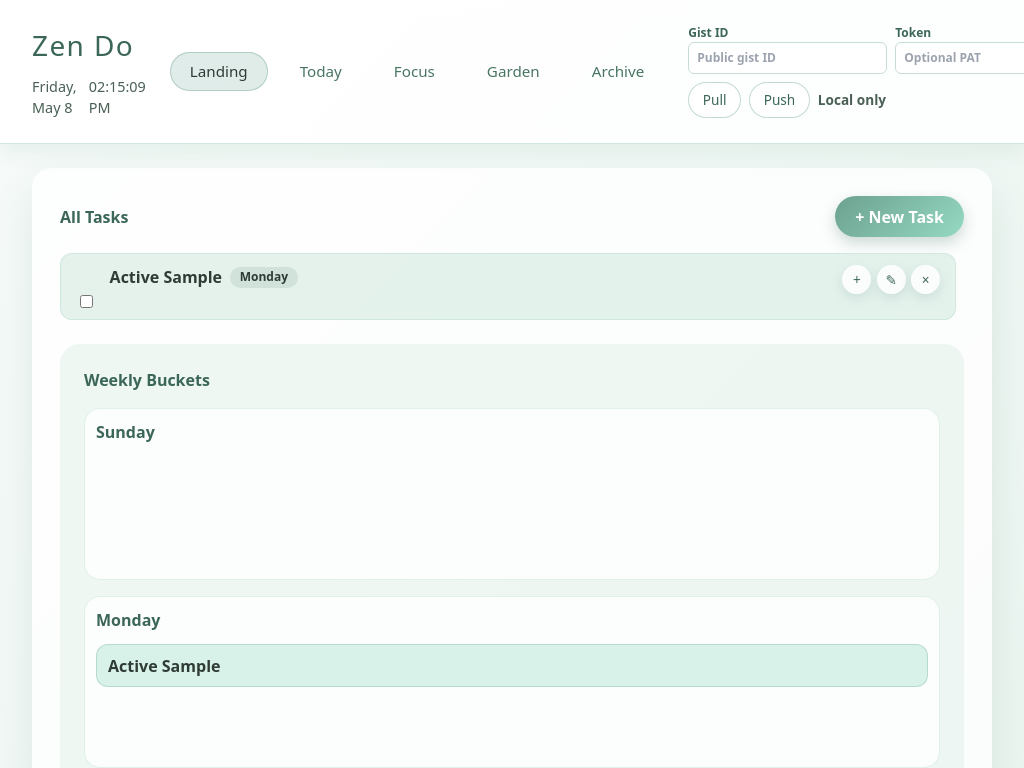
Test case: ZenDoApp archive interactions › moves a task from the archive back into active collections when unarchived
Click the button "Archive" at point(618, 71), box [572,52,664,91]
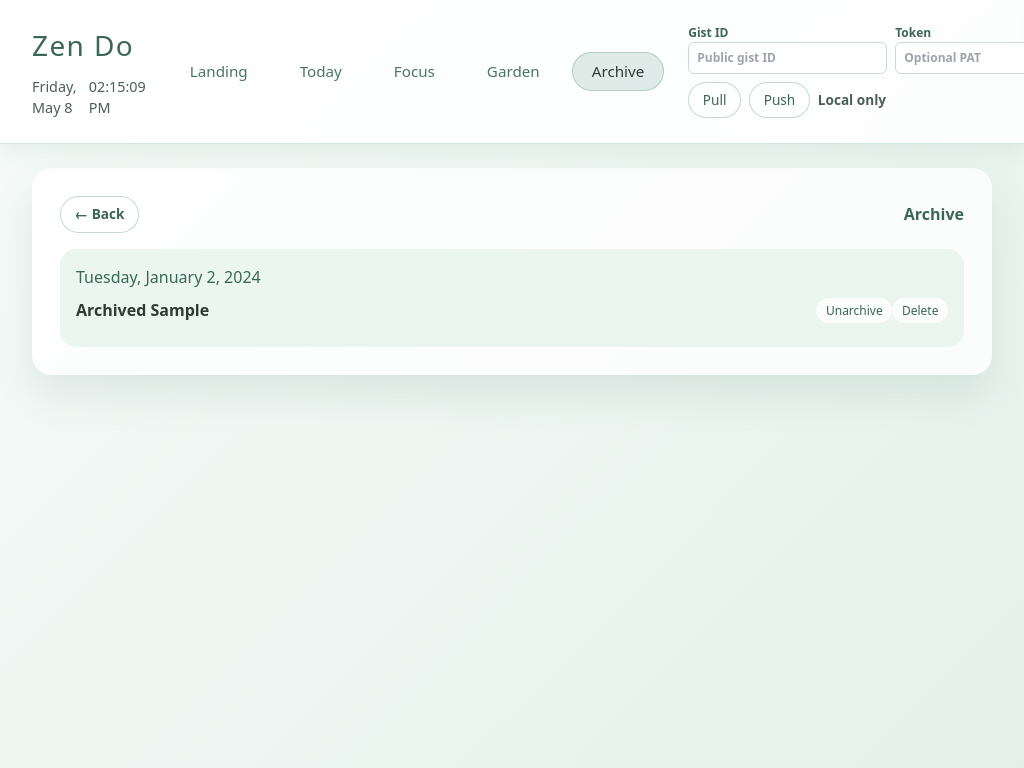
Expected: the list item "Archived Sample" is shown, [76,299,209,321]
Click the button "Unarchive" at point(854, 311), box [816,298,892,323]
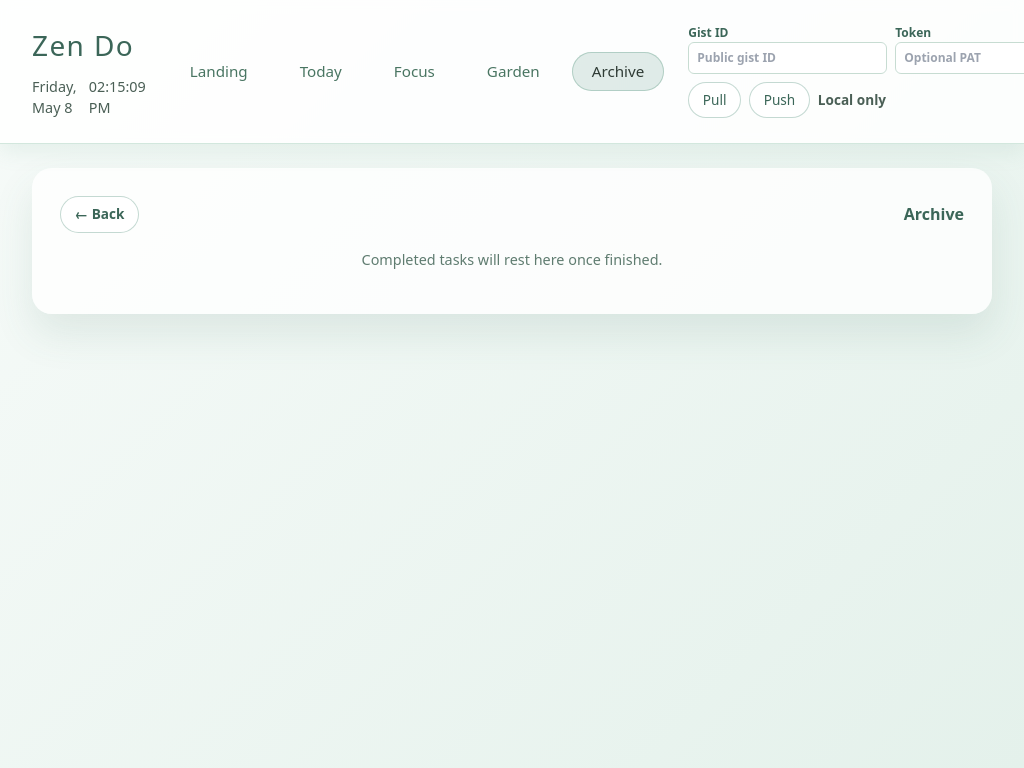
Expected: the text "Completed tasks will rest here once finished." is shown, [362,250,662,269]
Click the button "Landing" at point(219, 71), box [170,52,268,91]
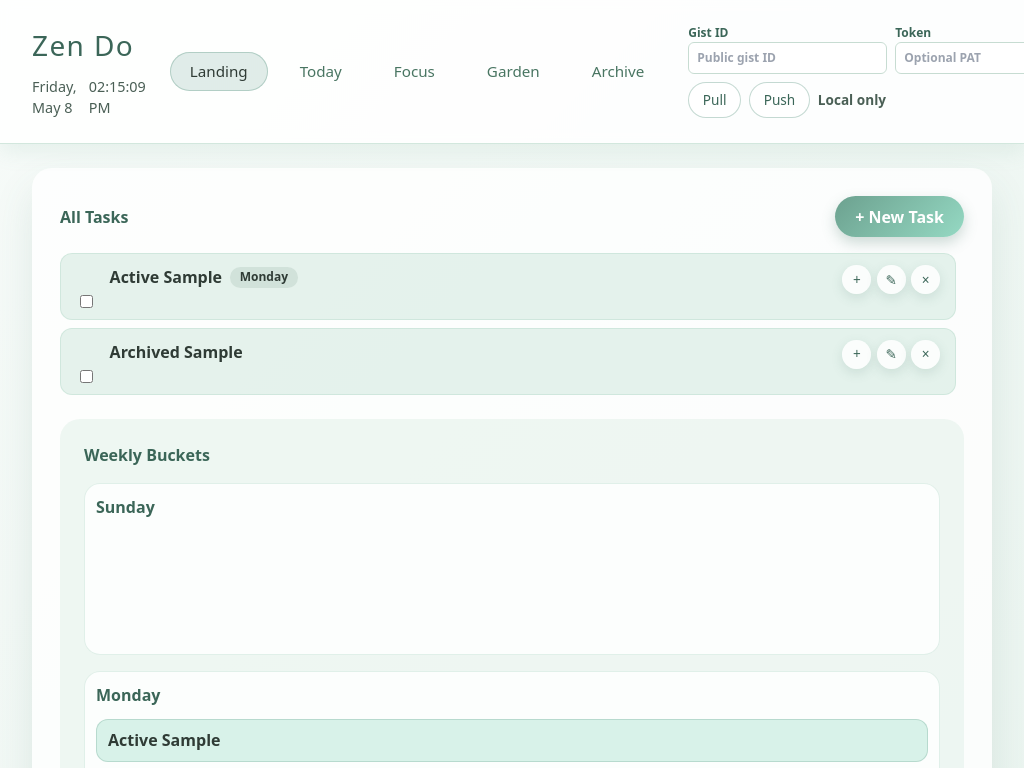
Expected: the list item "Archived Sample + ✎ ×" is shown, [60,328,956,395]
Expected: the checkbox named "Mark as complete" below "Archived Sample" is not checked, [80,370,93,383]
